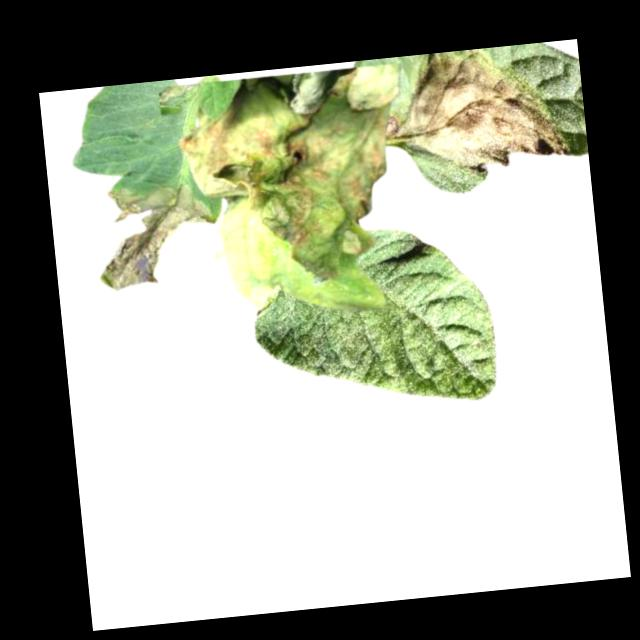Late_blight: (158, 61, 421, 297), (398, 41, 572, 180), (88, 179, 219, 297)
healthy: (245, 218, 502, 422)
